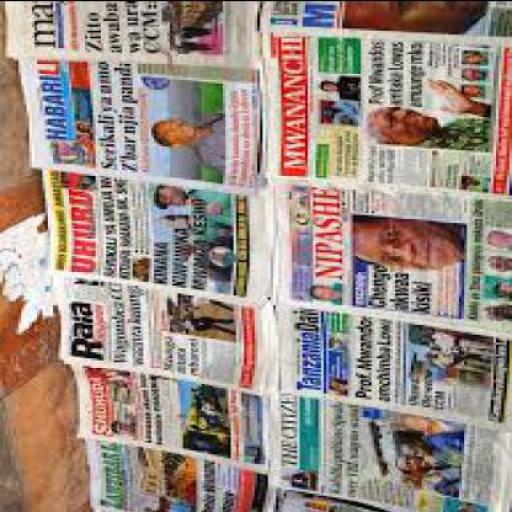paper: (257, 31, 510, 198), (270, 181, 510, 341), (11, 63, 257, 198), (268, 302, 510, 430), (40, 170, 263, 308), (271, 394, 511, 511), (56, 298, 268, 400), (74, 366, 271, 472), (2, 2, 258, 58), (85, 439, 261, 511), (257, 2, 510, 37)
